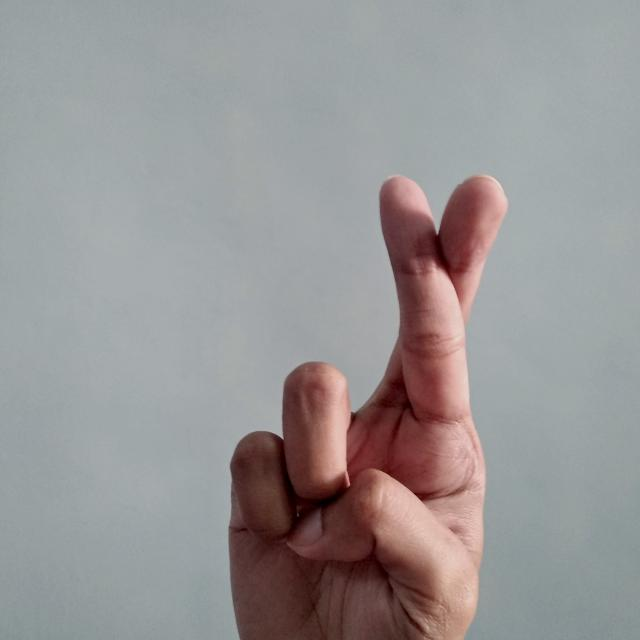R: (225, 167, 515, 640)
